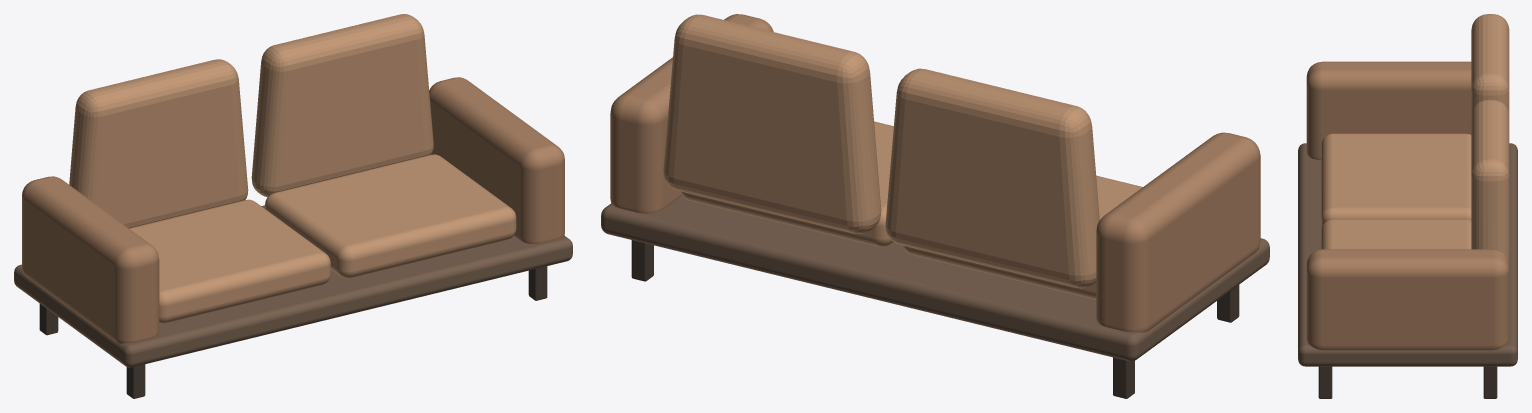
3 renders of one model, left to right at view 1: azimuth 30°, elevation 25°; view 2: azimuth 150°, elevation 25°; view 3: azimuth 270°, elevation 25°, orthographic. The views are drawn at different scales.
Parts seen in each view (by area): view 1: back-right, back-left, seat-right, base, arm-left, seat-left, arm-right, leg-left-front, leg-right-front; view 2: back-right, back-left, base, arm-left, arm-right, seat-right, seat-left, leg-right-rear, leg-left-rear, leg-left-front; view 3: arm-right, seat-left, arm-left, base, back-right, seat-right, back-left, leg-right-front, leg-right-rear.
Boxes of the visible parts, bbox=[...] form: back-right: bbox=[251, 14, 433, 197]; back-left: bbox=[69, 59, 248, 228]; seat-right: bbox=[265, 154, 516, 278]; base: bbox=[14, 205, 572, 367]; arm-left: bbox=[22, 176, 159, 343]; seat-left: bbox=[129, 199, 330, 323]; arm-right: bbox=[429, 77, 564, 243]; leg-left-front: bbox=[126, 364, 145, 398]; leg-right-front: bbox=[528, 266, 547, 300]; back-right: bbox=[663, 14, 881, 234]; back-left: bbox=[885, 68, 1099, 288]; base: bbox=[601, 195, 1269, 361]; arm-left: bbox=[1096, 132, 1260, 332]; arm-right: bbox=[610, 14, 773, 213]; seat-right: bbox=[680, 121, 893, 246]; seat-left: bbox=[902, 175, 1142, 299]; leg-right-rear: bbox=[631, 240, 653, 281]; leg-left-rear: bbox=[1113, 357, 1134, 398]; leg-left-front: bbox=[1217, 285, 1239, 322]; arm-right: bbox=[1306, 249, 1509, 350]; seat-left: bbox=[1321, 133, 1471, 227]; arm-left: bbox=[1306, 61, 1471, 159]; base: bbox=[1298, 143, 1517, 366]; back-right: bbox=[1471, 99, 1509, 262]; seat-right: bbox=[1321, 219, 1471, 249]; back-left: bbox=[1471, 14, 1509, 114]; leg-right-front: bbox=[1318, 366, 1332, 398]; leg-right-rear: bbox=[1483, 366, 1497, 398].
Size of the model in its own units: 2.32 by 1.13 by 1.04.
